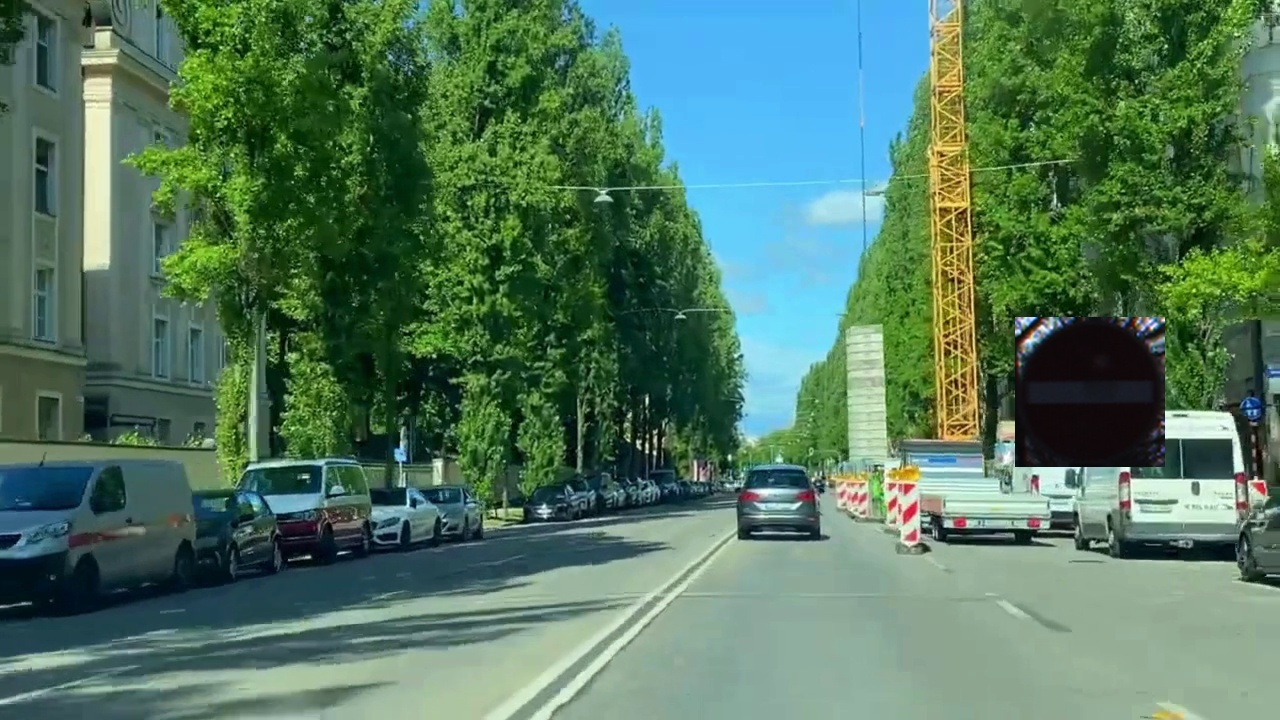No entry: (1015, 317, 1165, 467)
